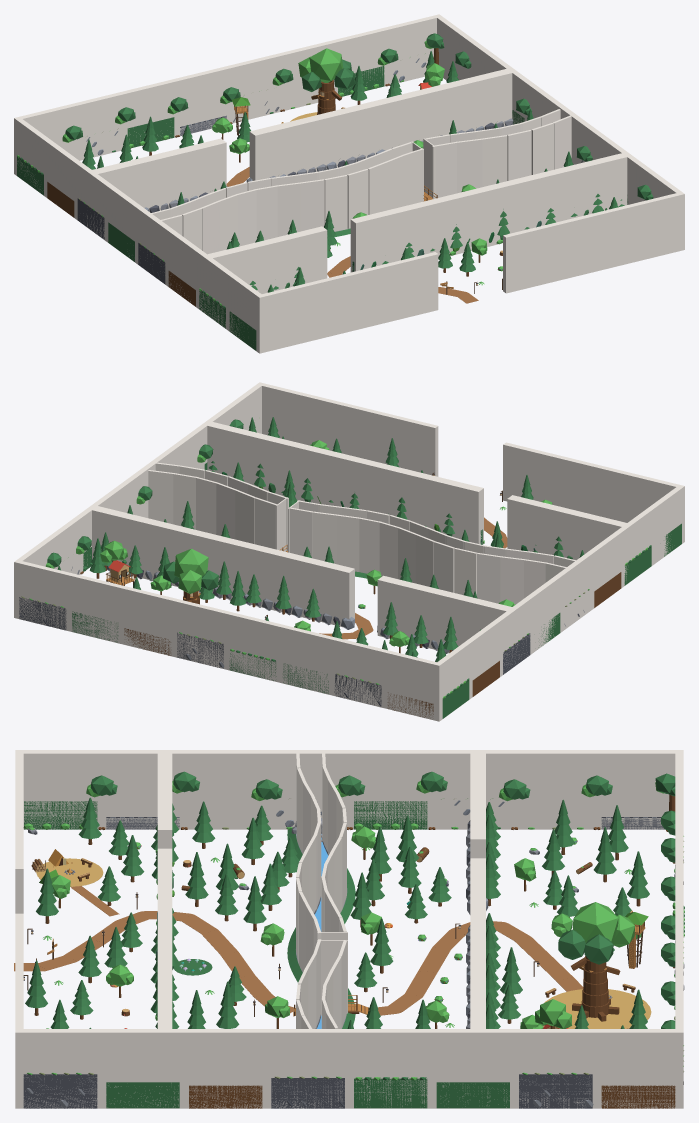
File: CatCafe_Woods_SetV32.glb
3 renders of one model, top to bottom at view 1: azimuth 30°, elevation 25°; view 2: azimuth 150°, elevation 25°; view 3: azimuth 270°, elevation 25°, orthographic. The views are drawn at different scales.
Visible parts, largest first — view 1: CatCafe_Woods_SetV32_053_Walls_Barrier, CatCafe_Woods_SetV32_056_Stream_Barrier, CatCafe_Woods_SetV32_055_Ridge_Barrier, CatCafe_Woods_SetV32_054_TreeLine_Barrier, CatCafe_Woods_SetV32_113_GreatOak, CatCafe_Woods_SetV32_054_TreeLine, CatCafe_Woods_SetV32_055_Ridge, CatCafe_Woods_SetV32, CatCafe_Woods_SetV32_010_WallThicket, CatCafe_Woods_SetV32_021_WallCliff, CatCafe_Woods_SetV32_025_WallCliff, CatCafe_Woods_SetV32_029_WallDrystone (+4 smaller); view 2: CatCafe_Woods_SetV32_053_Walls_Barrier, CatCafe_Woods_SetV32_056_Stream_Barrier, CatCafe_Woods_SetV32_054_TreeLine_Barrier, CatCafe_Woods_SetV32_055_Ridge_Barrier, CatCafe_Woods_SetV32_055_Ridge, CatCafe_Woods_SetV32_113_GreatOak, CatCafe_Woods_SetV32_054_TreeLine, CatCafe_Woods_SetV32_000_WallCliff, CatCafe_Woods_SetV32_006_WallCliff, CatCafe_Woods_SetV32_118_Treehouse, CatCafe_Woods_SetV32_012_WallCliff, CatCafe_Woods_SetV32_025_WallCliff (+5 smaller); view 3: CatCafe_Woods_SetV32_053_Walls_Barrier, CatCafe_Woods_SetV32_056_Stream_Barrier, CatCafe_Woods_SetV32, CatCafe_Woods_SetV32_113_GreatOak, CatCafe_Woods_SetV32_055_Ridge_Barrier, CatCafe_Woods_SetV32_054_TreeLine_Barrier, CatCafe_Woods_SetV32_055_Ridge, CatCafe_Woods_SetV32_044_WallCliff, CatCafe_Woods_SetV32_032_WallCliff, CatCafe_Woods_SetV32_038_WallCliff, CatCafe_Woods_SetV32_036_WallDrystone, CatCafe_Woods_SetV32_023_WallThicket (+33 smaller).
Boxes of the visible parts, box(x1,y1,x2,y2) form: CatCafe_Woods_SetV32_053_Walls_Barrier: box(14, 14, 684, 353); CatCafe_Woods_SetV32_056_Stream_Barrier: box(151, 109, 571, 254); CatCafe_Woods_SetV32_055_Ridge_Barrier: box(92, 69, 512, 211); CatCafe_Woods_SetV32_054_TreeLine_Barrier: box(208, 153, 627, 293); CatCafe_Woods_SetV32_113_GreatOak: box(298, 48, 355, 114); CatCafe_Woods_SetV32_054_TreeLine: box(249, 194, 624, 290); CatCafe_Woods_SetV32_055_Ridge: box(144, 118, 513, 212); CatCafe_Woods_SetV32: box(226, 112, 478, 303); CatCafe_Woods_SetV32_010_WallThicket: box(127, 117, 174, 148); CatCafe_Woods_SetV32_021_WallCliff: box(138, 243, 165, 284); CatCafe_Woods_SetV32_025_WallCliff: box(77, 198, 104, 239); CatCafe_Woods_SetV32_029_WallDrystone: box(17, 155, 43, 195); CatCafe_Woods_SetV32_053_Walls_Barrier: box(14, 382, 684, 721); CatCafe_Woods_SetV32_056_Stream_Barrier: box(148, 462, 575, 604); CatCafe_Woods_SetV32_054_TreeLine_Barrier: box(207, 422, 626, 560); CatCafe_Woods_SetV32_055_Ridge_Barrier: box(92, 506, 511, 653); CatCafe_Woods_SetV32_055_Ridge: box(101, 532, 480, 653); CatCafe_Woods_SetV32_113_GreatOak: box(163, 548, 218, 604); CatCafe_Woods_SetV32_054_TreeLine: box(209, 461, 572, 559); CatCafe_Woods_SetV32_000_WallCliff: box(19, 596, 66, 630); CatCafe_Woods_SetV32_006_WallCliff: box(177, 632, 224, 668); CatCafe_Woods_SetV32_118_Treehouse: box(100, 540, 134, 586); CatCafe_Woods_SetV32_012_WallCliff: box(334, 673, 381, 707); CatCafe_Woods_SetV32_025_WallCliff: box(503, 633, 530, 674); CatCafe_Woods_SetV32_053_Walls_Barrier: box(15, 750, 683, 1108); CatCafe_Woods_SetV32_056_Stream_Barrier: box(296, 753, 347, 1030); CatCafe_Woods_SetV32: box(14, 858, 651, 1028); CatCafe_Woods_SetV32_113_GreatOak: box(558, 902, 634, 1021); CatCafe_Woods_SetV32_055_Ridge_Barrier: box(470, 753, 485, 1028); CatCafe_Woods_SetV32_054_TreeLine_Barrier: box(157, 753, 172, 1028); CatCafe_Woods_SetV32_055_Ridge: box(466, 802, 500, 1028); CatCafe_Woods_SetV32_044_WallCliff: box(23, 1072, 97, 1108); CatCafe_Woods_SetV32_032_WallCliff: box(519, 1072, 593, 1108); CatCafe_Woods_SetV32_038_WallCliff: box(271, 1076, 344, 1108); CatCafe_Woods_SetV32_036_WallDrystone: box(354, 1077, 427, 1108); CatCafe_Woods_SetV32_023_WallThicket: box(354, 801, 427, 829).
Bounding box in the file's own units: 240 × 45.34 × 240.
1 material, 1 textured.
